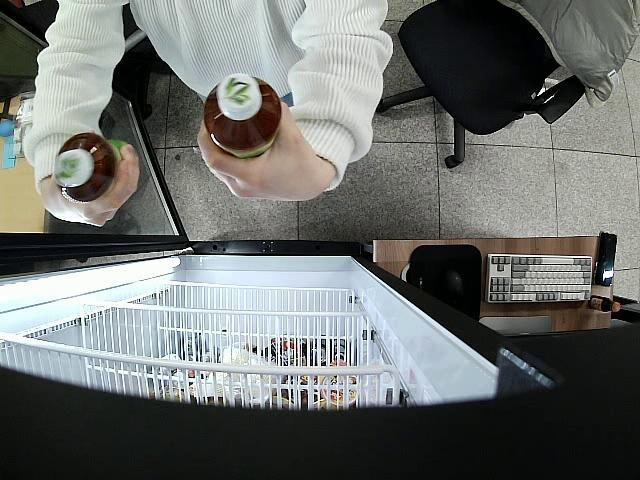19_17cha: (204, 74, 284, 158), (50, 130, 130, 202)
